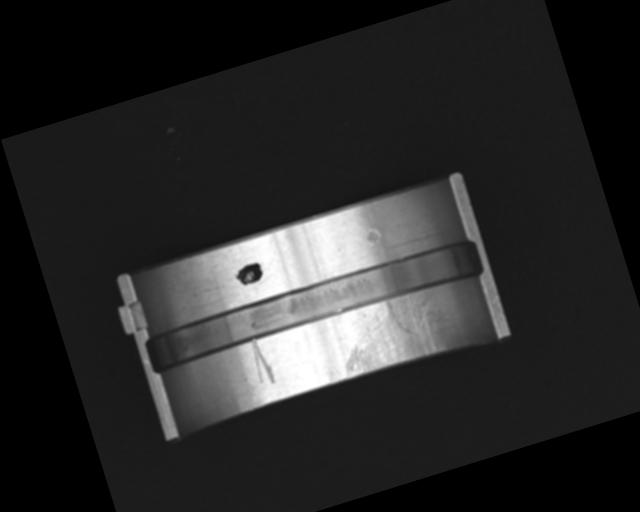blot: (232, 261, 266, 288)
bruise: (363, 225, 383, 249)
gap: (142, 235, 485, 375)
nick: (246, 335, 278, 388)
scratch: (329, 283, 454, 381)
